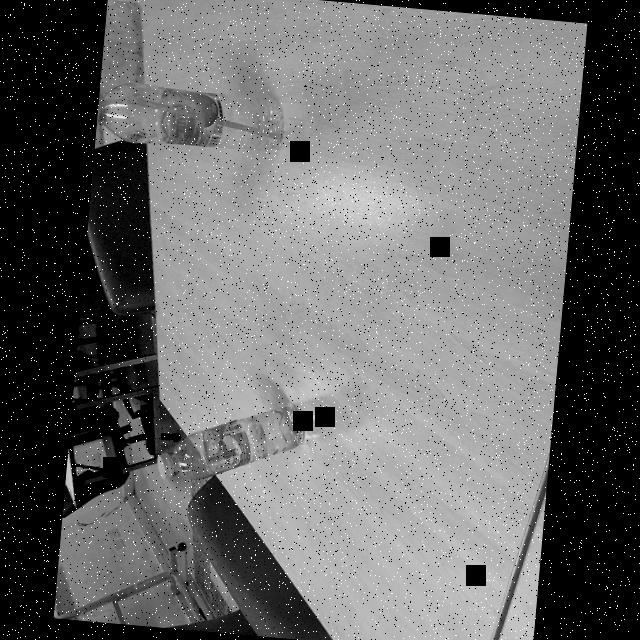plastic_bottle: (152, 393, 308, 490), (95, 78, 288, 156)
plastic_bottle_cap: (156, 451, 176, 477)
straw: (97, 94, 286, 140)
